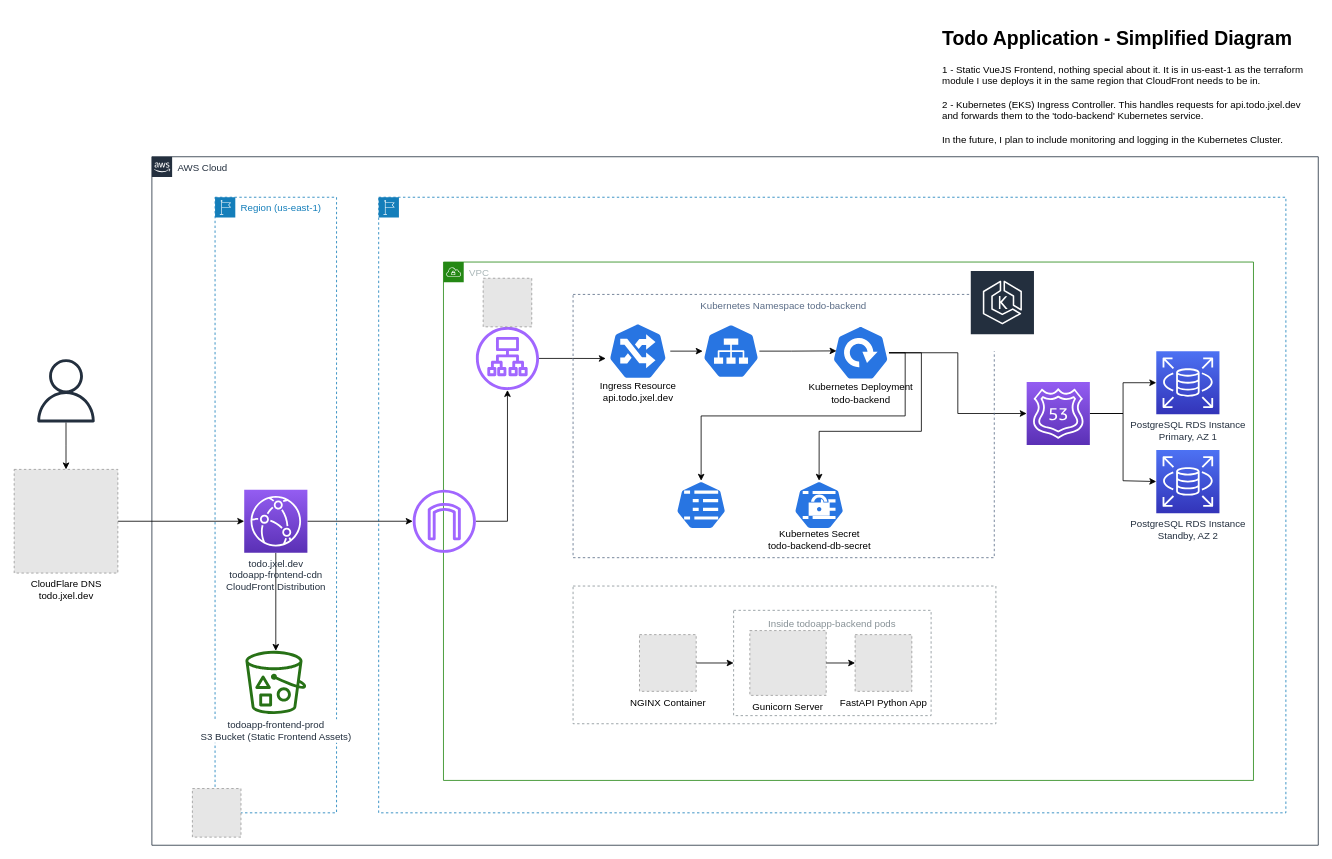
Some shapes in this 1332 by 859 pixel diagram are drawn without their labels. Grey dashed boxes stand in for pictures. The shapes that lost their labels are listed below. From the top down, each one's box as (x1, y1, x2, y2) in pixels, then its label:
(969, 269, 1035, 351): Amazon EKS
(475, 326, 539, 390): Application Load Balancer Kubernetes Ingress
(702, 316, 759, 385): Kubernetes Service todo-backend
(1026, 381, 1090, 445): Route53 Record - Database Failover DNS
(412, 489, 475, 552): Internet Gateway
(669, 480, 732, 529): Kubernetes ConfigMap todo-backend-conf
(378, 196, 1286, 813): Region (ap-southeast-2)
(572, 585, 996, 724): Inside todo-backend pods
